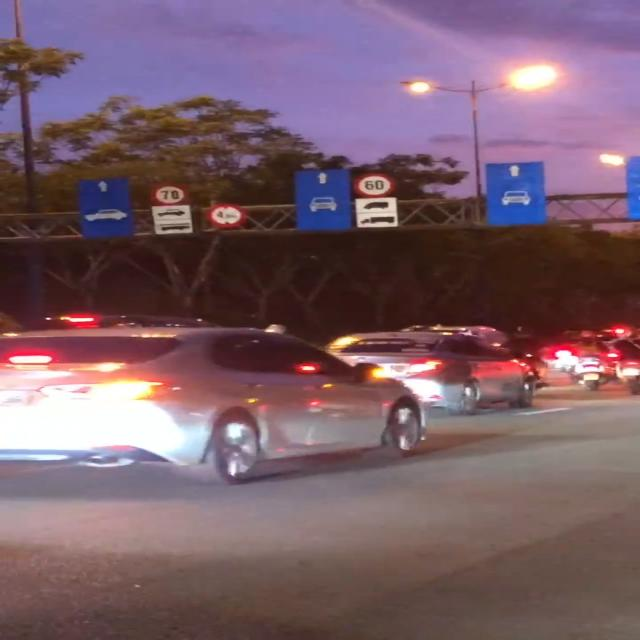Bien bao han che chieu cao: (205, 202, 246, 230)
Bien bao toc do toi da cho phep: (351, 172, 392, 197), (148, 184, 193, 206)
